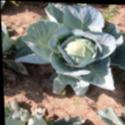cabbage: (52, 29, 101, 71)
